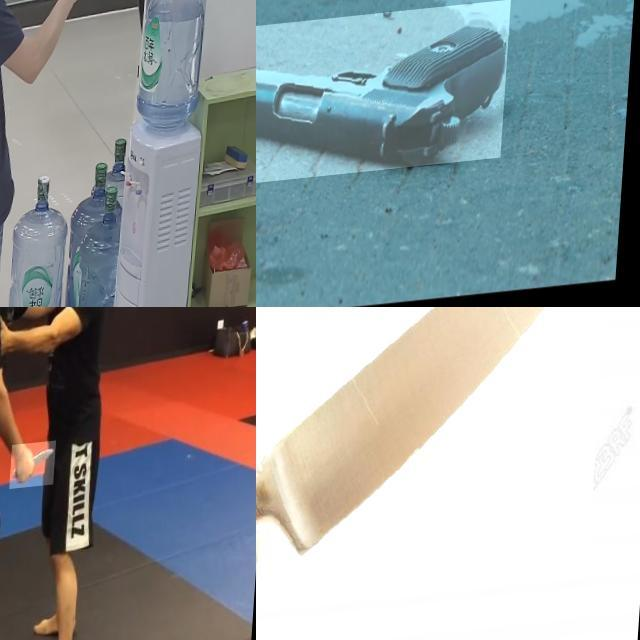-: (256, 307, 616, 628), (16, 450, 62, 497)
gun-knife-thesis - v11 Yolov5 augmented: (256, 10, 514, 195), (61, 0, 106, 45)
